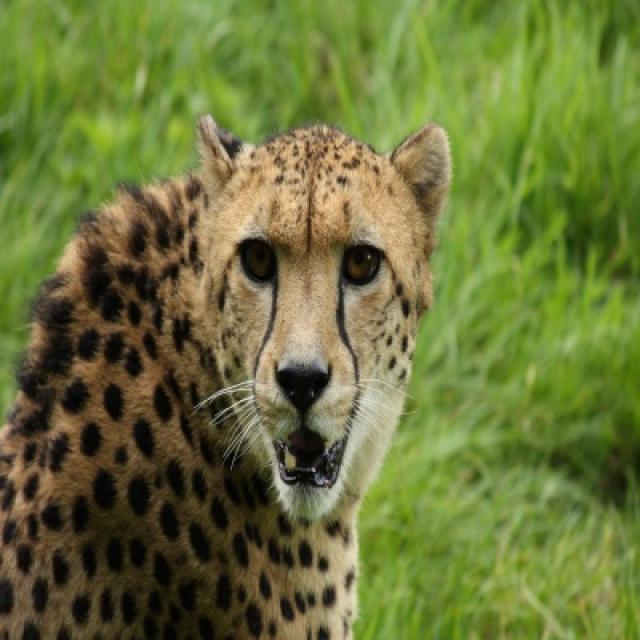Cheetah: (1, 114, 455, 638)
